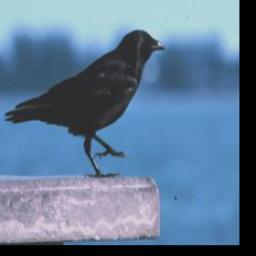Crow: (2, 24, 168, 179)
